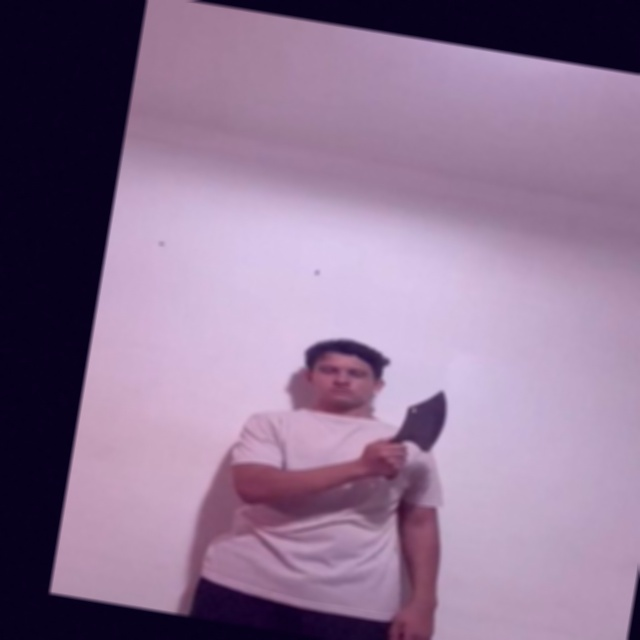Sharp-Object: (395, 387, 453, 452)
